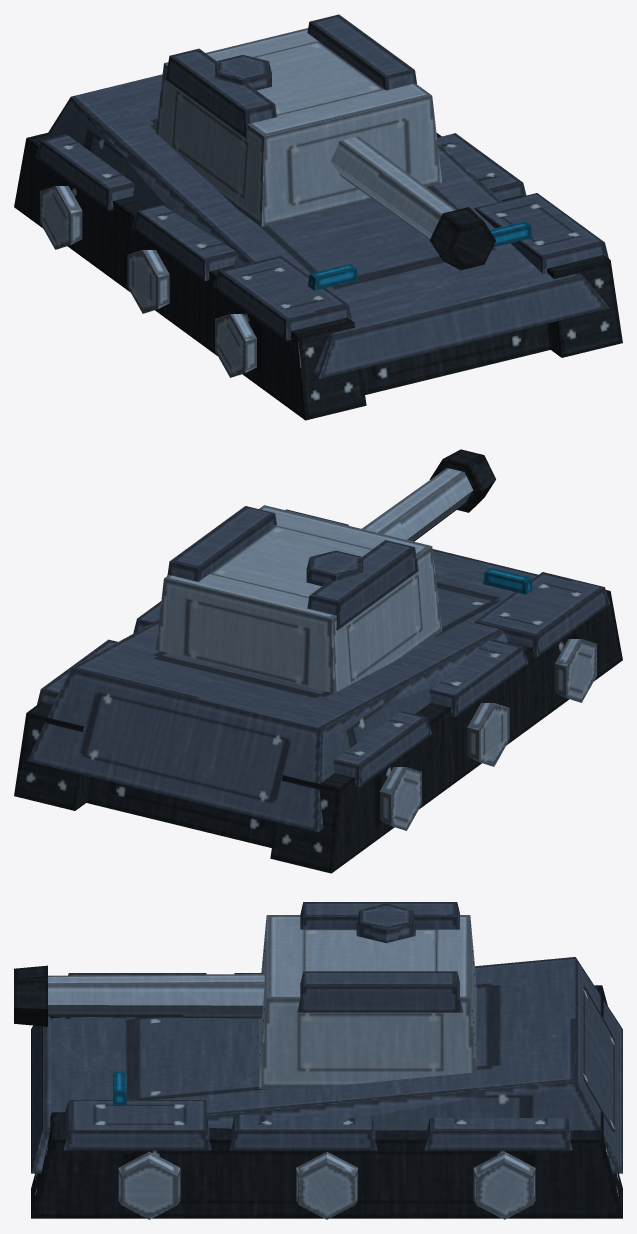
Rendered from unit-tank.fbx.
The picture shows the model from 3 angles, top to bottom: view 1: azimuth 30°, elevation 25°; view 2: azimuth 150°, elevation 25°; view 3: azimuth 270°, elevation 25°; orthographic projection.
Parts seen in each view (by area): view 1: unit-tank; view 2: unit-tank; view 3: unit-tank.
Part boxes in pixels (x1,y1,x2,y2): unit-tank: (14, 14, 622, 420); unit-tank: (14, 449, 622, 873); unit-tank: (14, 902, 622, 1219).
Size of the model in its own units: 362 by 195 by 535.
1 material, 1 textured.
